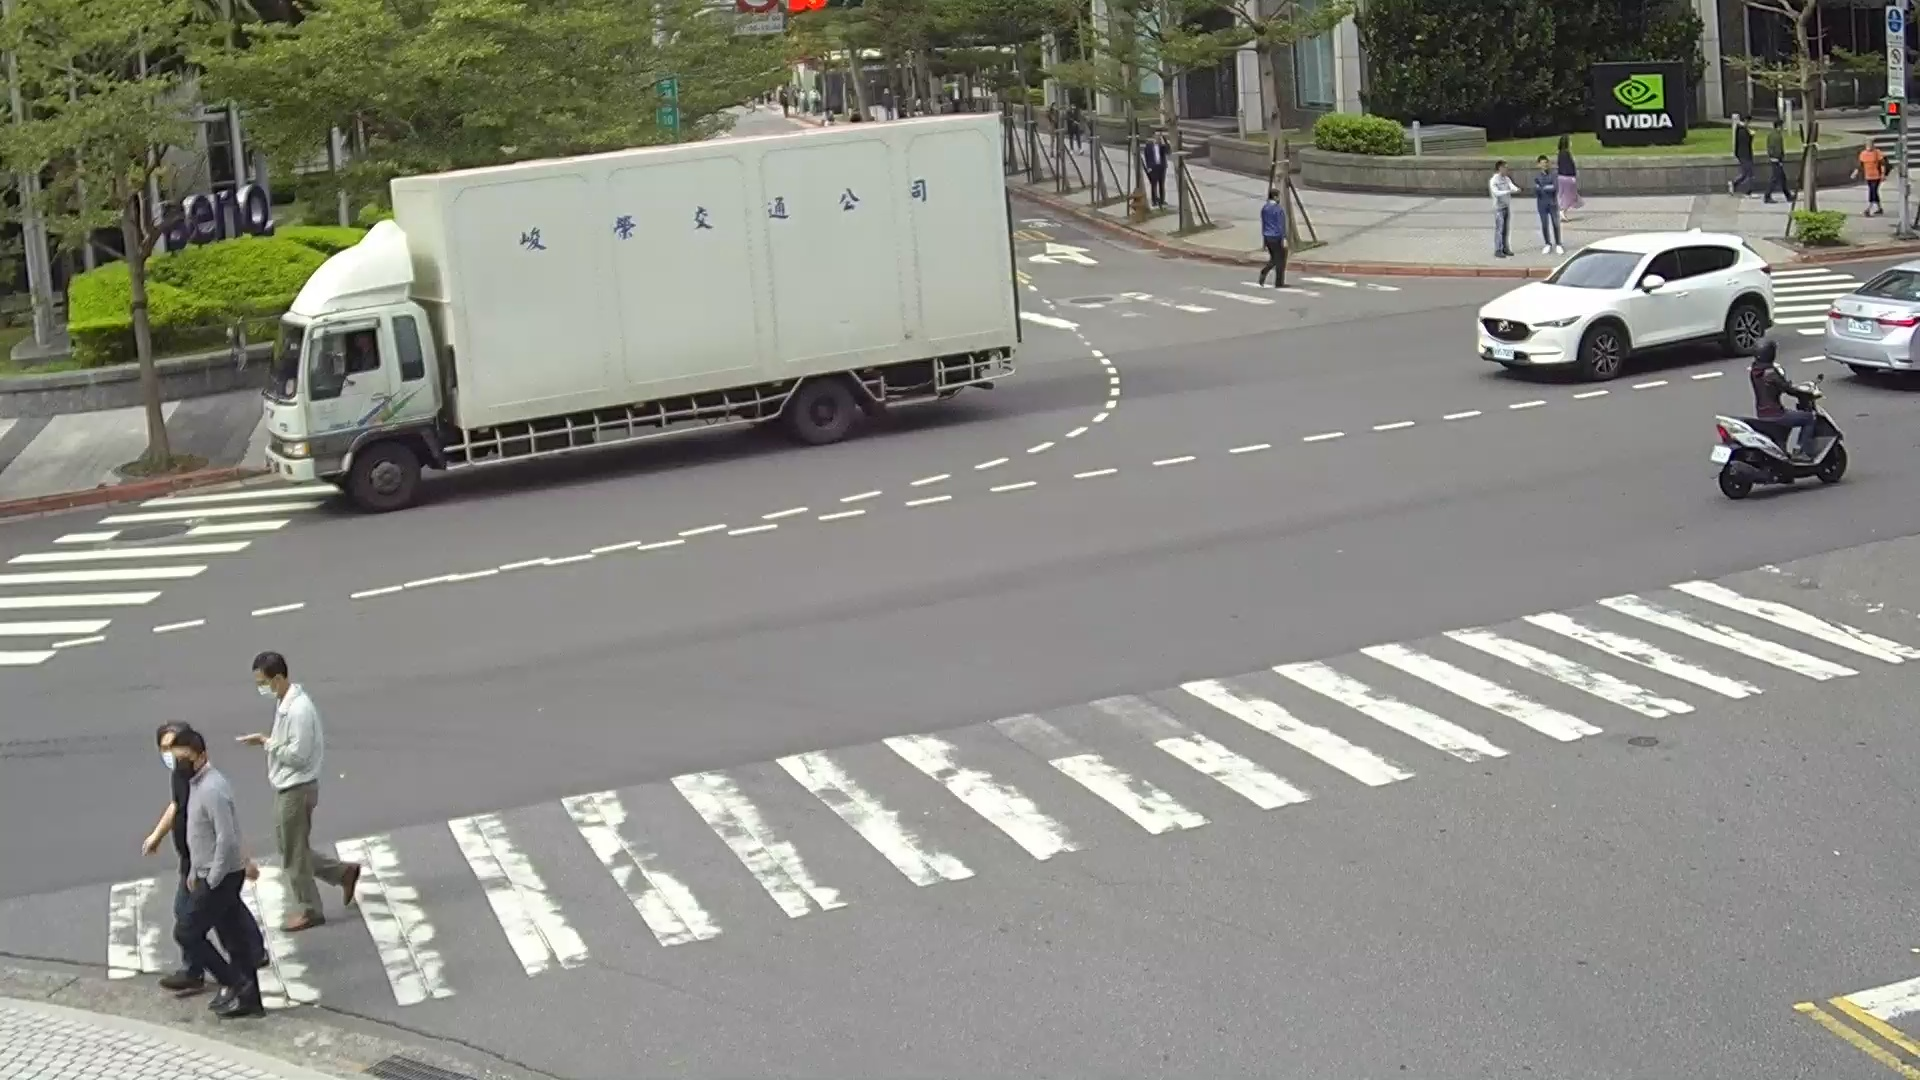bike: (1711, 385, 1850, 502)
pedestrian: (142, 726, 274, 1017), (233, 650, 356, 930), (1749, 339, 1822, 442), (1256, 190, 1291, 289), (1531, 154, 1563, 252), (1490, 158, 1522, 255), (1724, 111, 1755, 198), (1140, 135, 1168, 211), (1856, 140, 1885, 214), (1553, 135, 1578, 211), (1765, 126, 1790, 202)
vehicle: (268, 108, 1020, 518), (1471, 229, 1784, 383), (1822, 250, 1920, 389)
